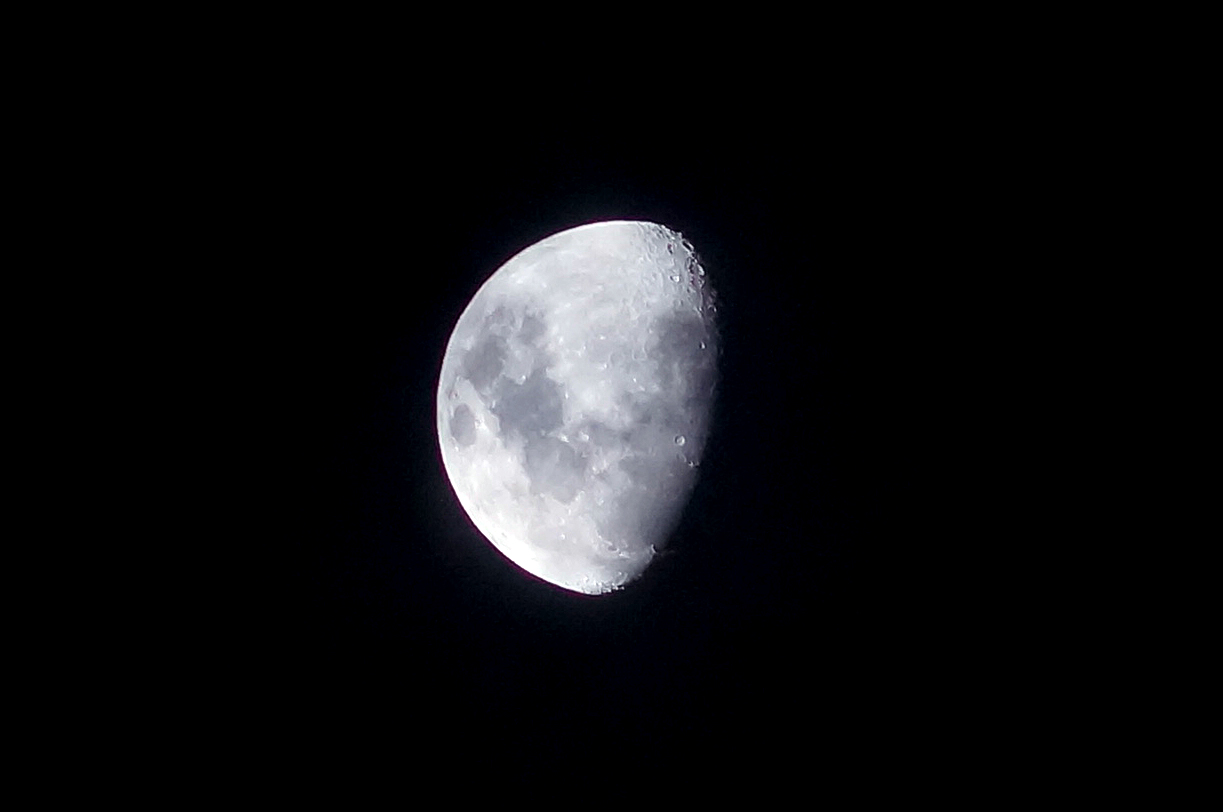crater: (649, 412, 700, 473), (576, 426, 598, 453), (556, 528, 576, 547)
